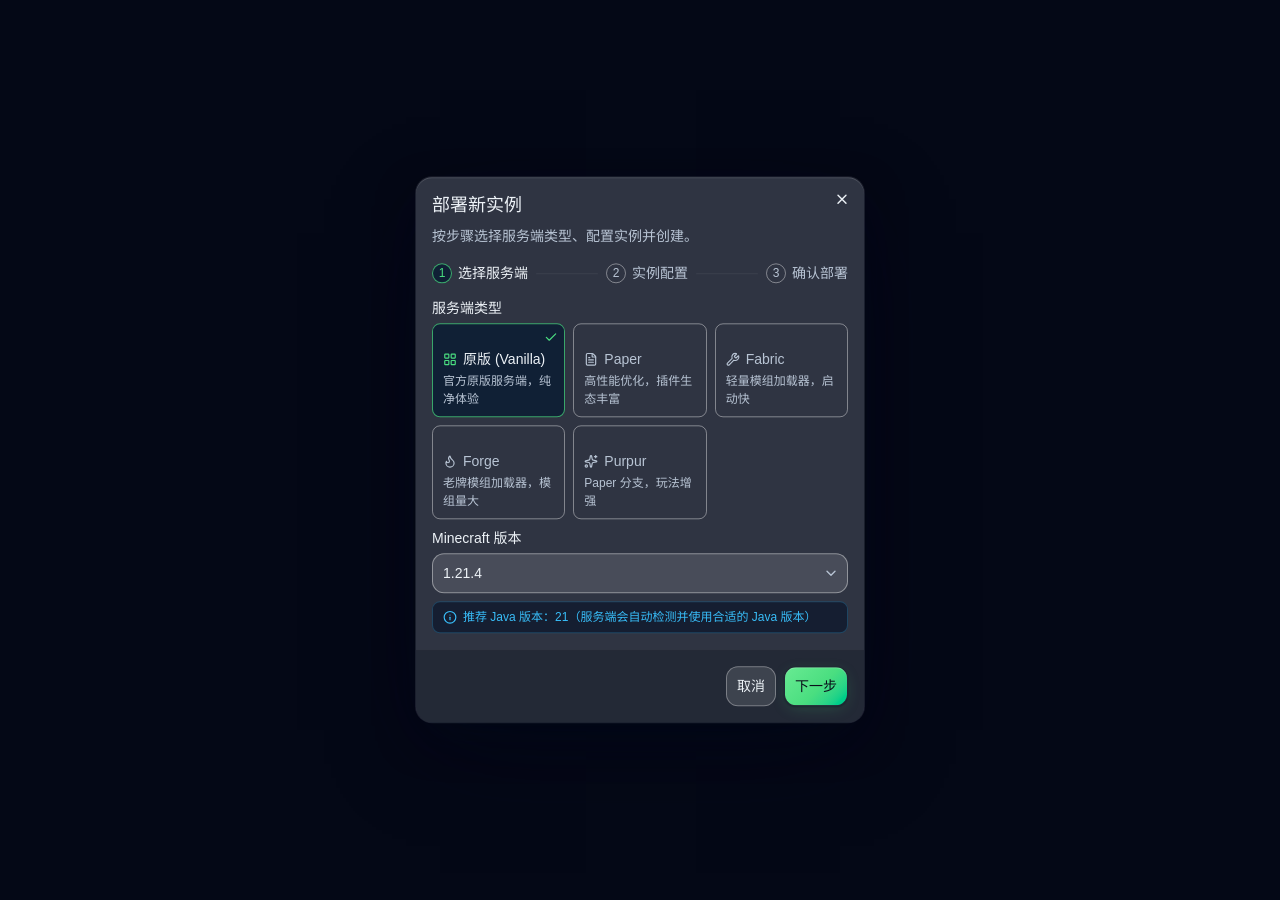
it: DeployDialog › EULA 同意随请求下发；服务端回报未启动时展示降级提示
Expected: the text "1.21.4" is shown, [443,564,482,584]
Click the button "下一步": (816, 687) [784,667,848,707]
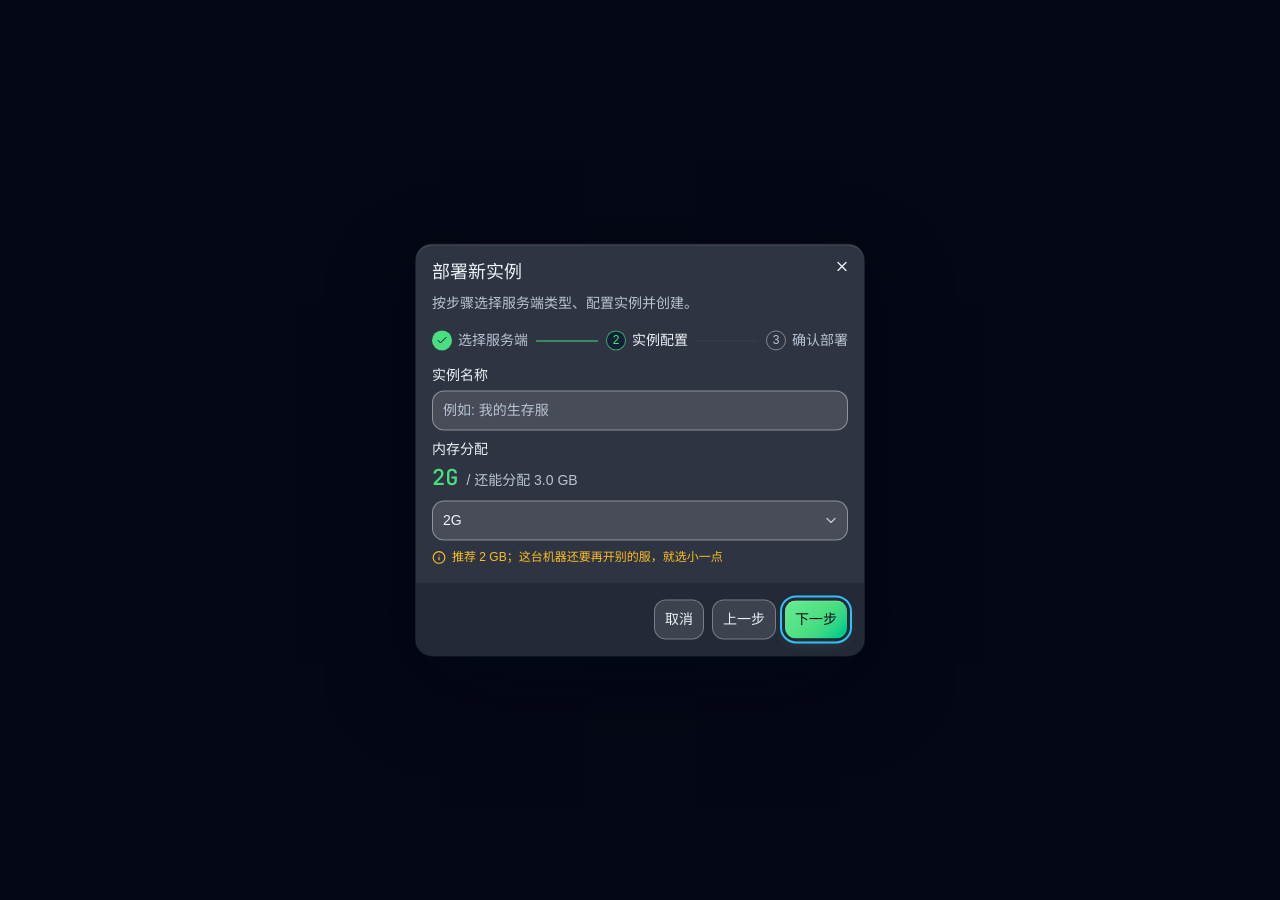
In the field labelled "实例名称": (640, 410) [432,390,848,430], type "我的生存服"
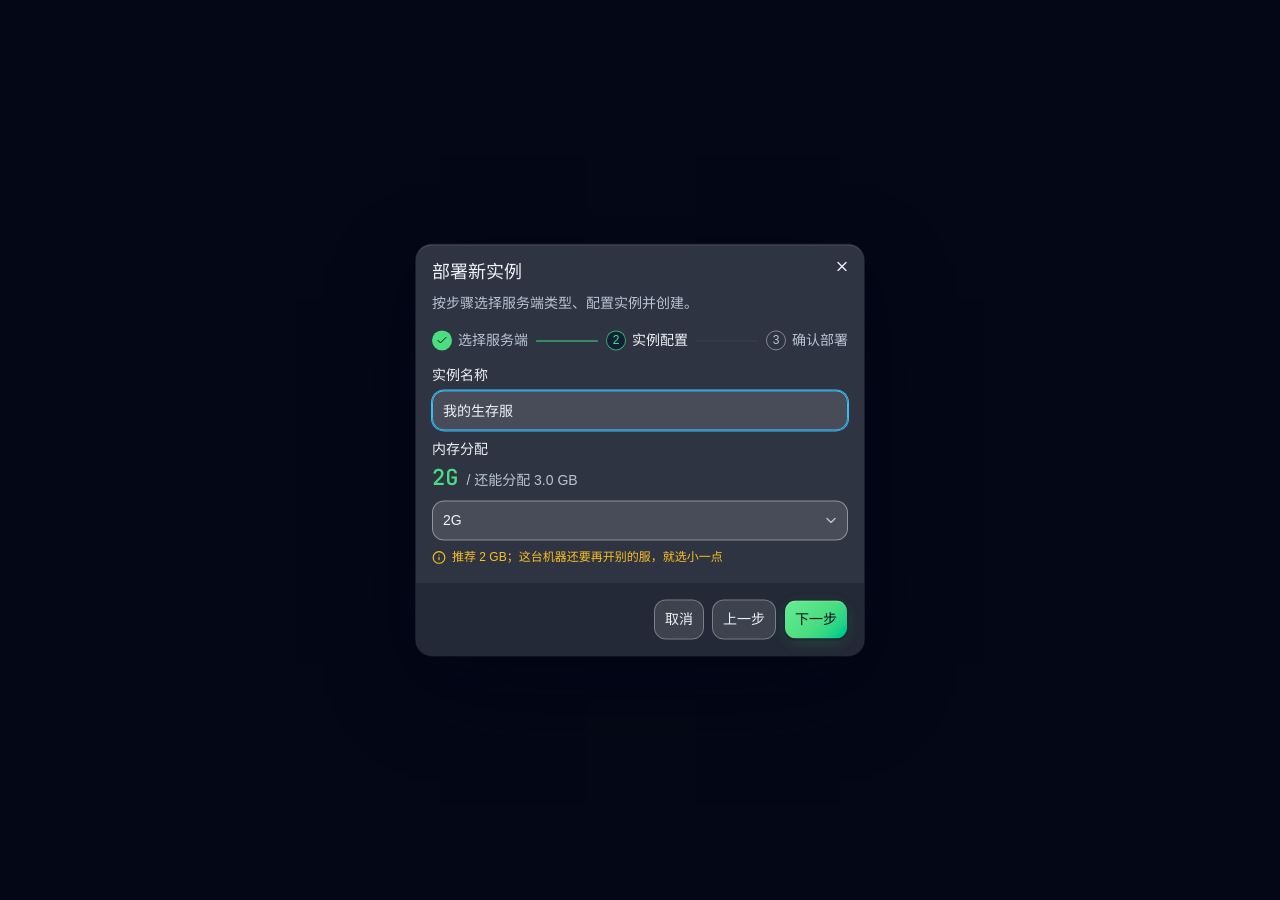
Click the button "下一步": (816, 620) [784,600,848,640]
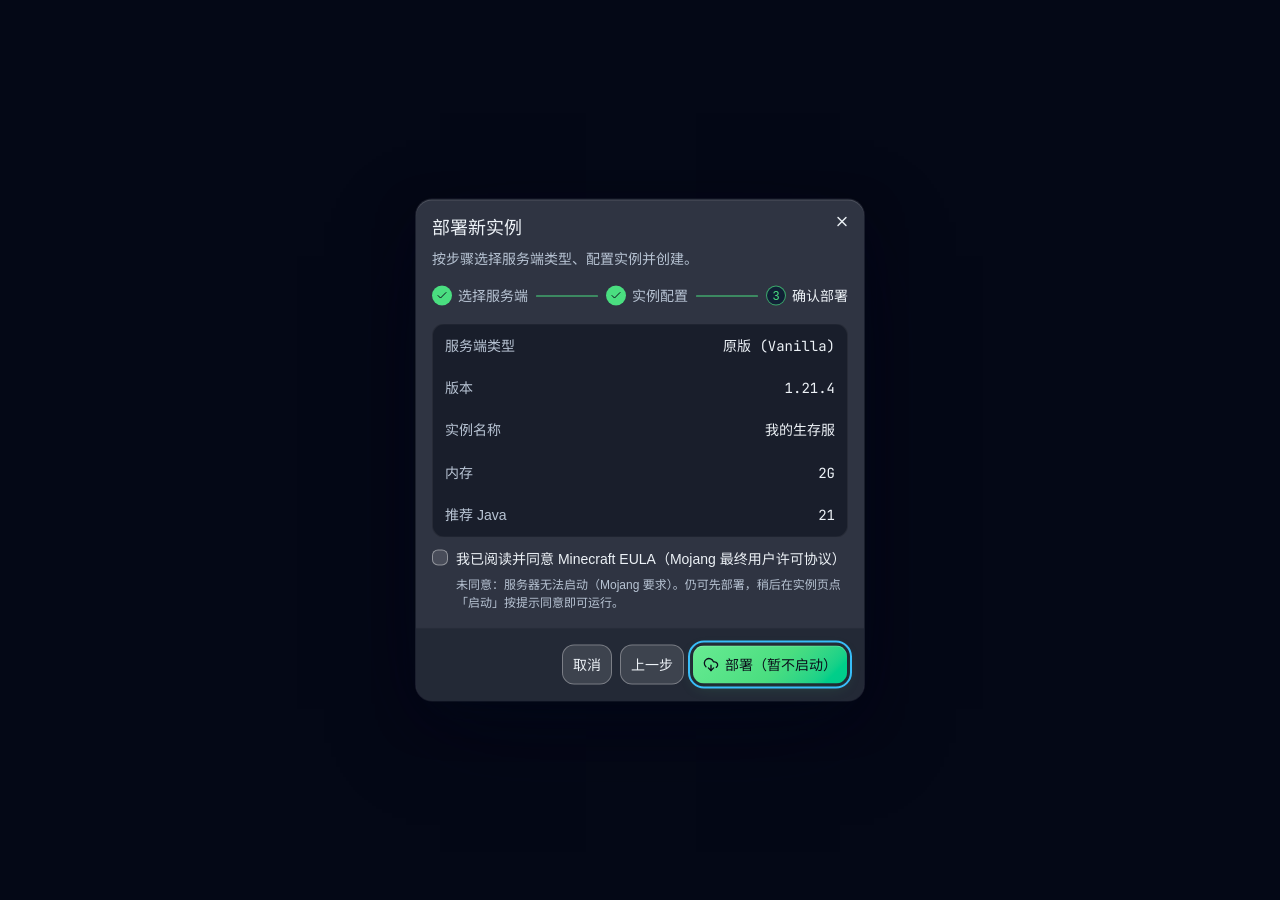
Click the checkbox named "Minecraft EULA": (440, 557) [432,549,448,565]
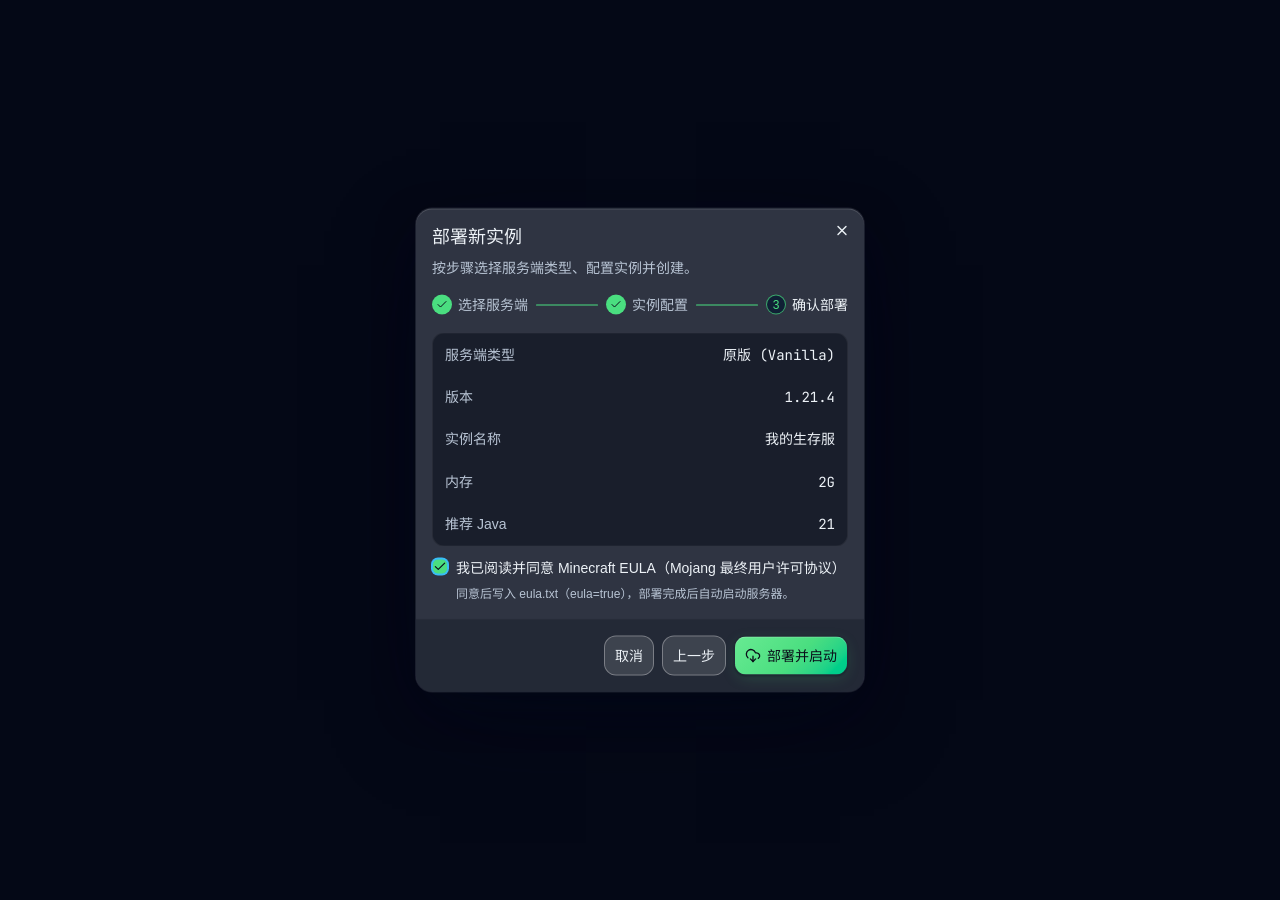
Click the button "部署并启动": (791, 656) [734,636,848,676]
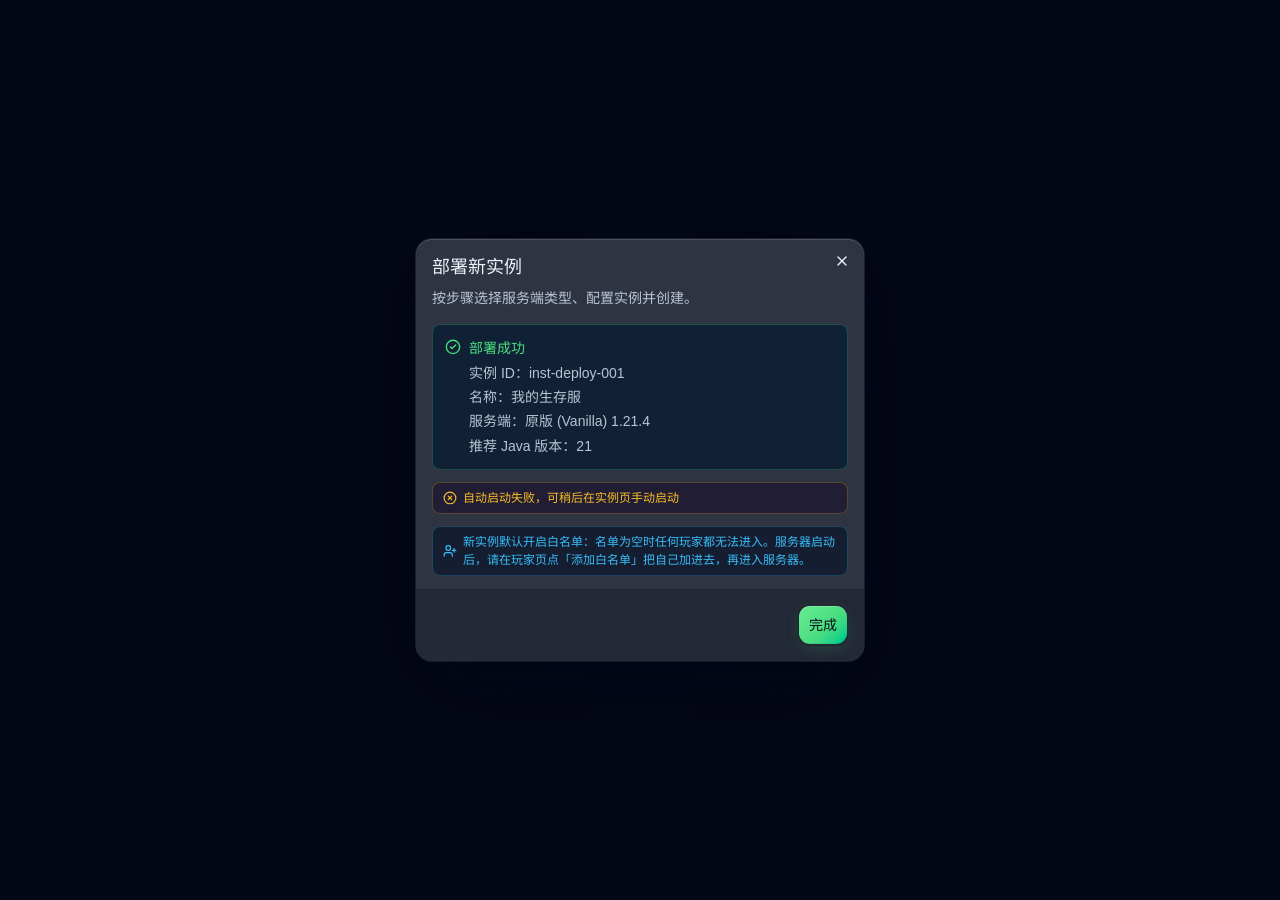
Expected: the text "部署成功" is shown, [469,340,525,356]
Expected: the text "自动启动失败，可稍后在实例页手动启动" is shown, [463,491,679,505]
